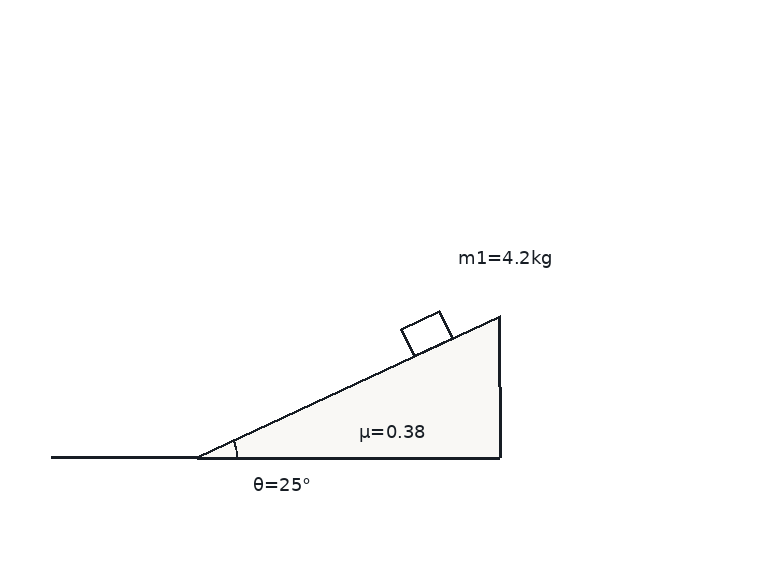block: (399, 308, 454, 358)
ramp: (195, 314, 502, 459)
